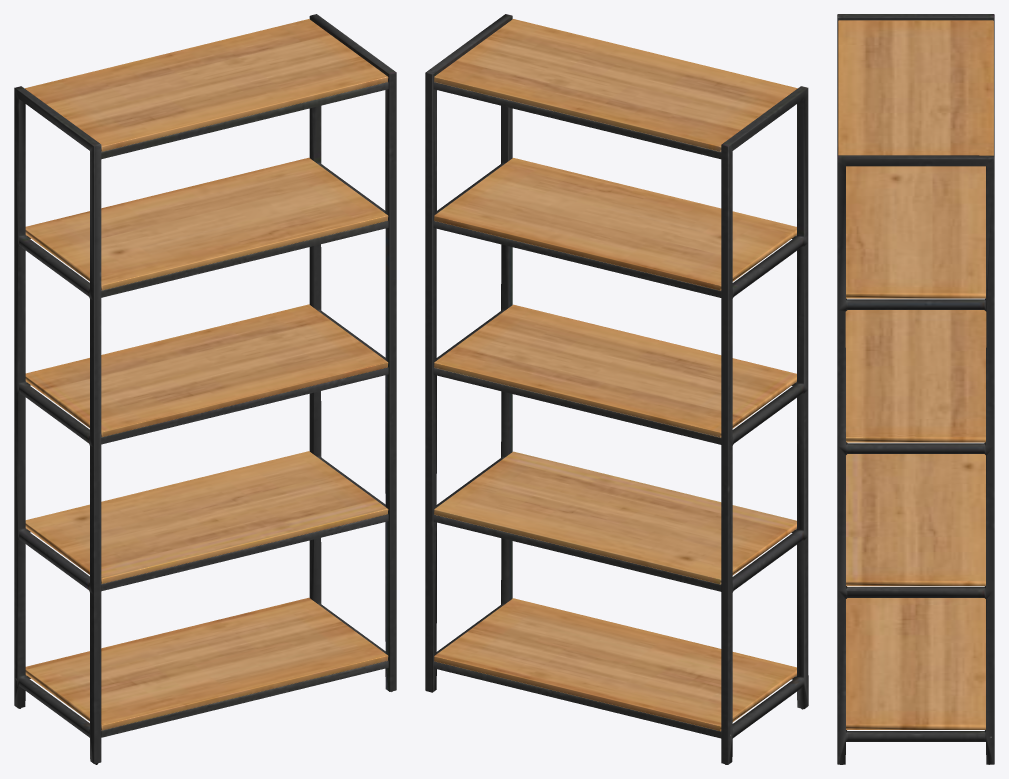
The model's file is steel_frame_shelves_01.glb.
The picture shows the model from 3 angles, left to right: view 1: azimuth 30°, elevation 25°; view 2: azimuth 150°, elevation 25°; view 3: azimuth 270°, elevation 25°; orthographic projection. The views are drawn at different scales.
Visible parts, largest first — view 1: steel_frame_shelves_01; view 2: steel_frame_shelves_01; view 3: steel_frame_shelves_01.
Part boxes in pixels (<box>): steel_frame_shelves_01: <box>14,14,396,764</box>; steel_frame_shelves_01: <box>425,14,808,764</box>; steel_frame_shelves_01: <box>837,14,994,764</box>.
Size of the model in its own units: 10.97 by 21.41 by 5.02.
1 material, 1 textured.
